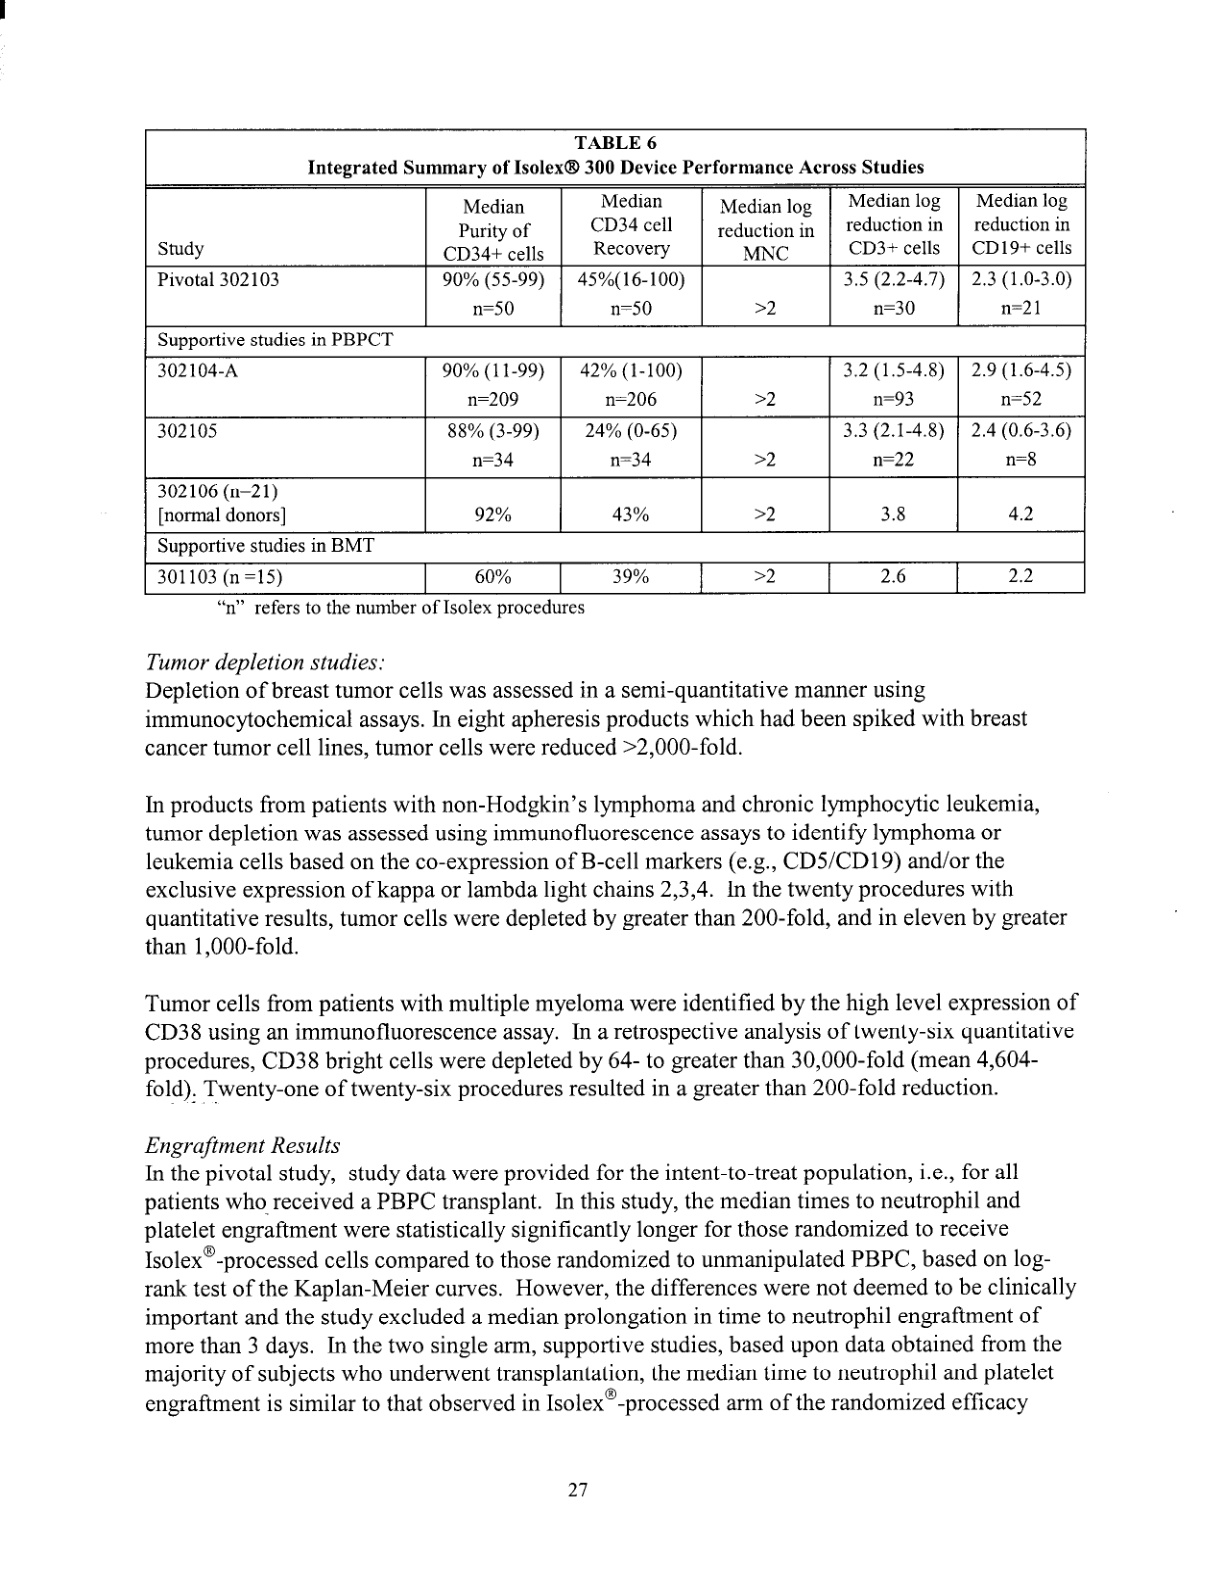merged_cells: (143, 128, 1087, 595)
